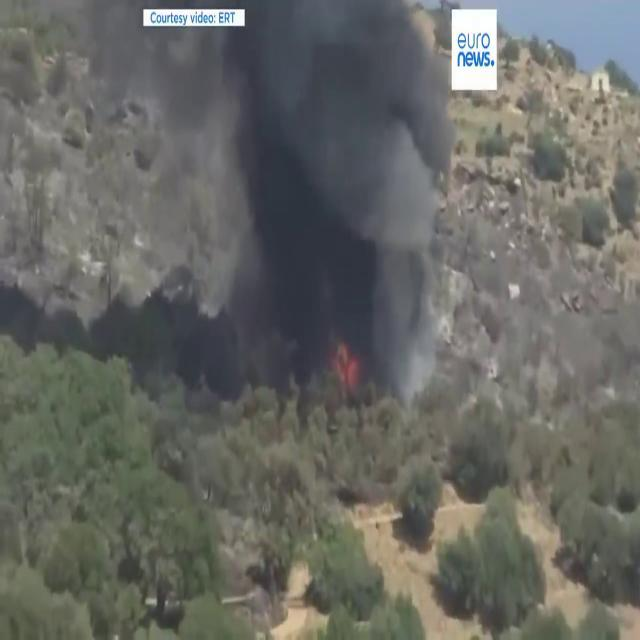Fire: (327, 327, 361, 389)
Smoke: (149, 1, 467, 408)
